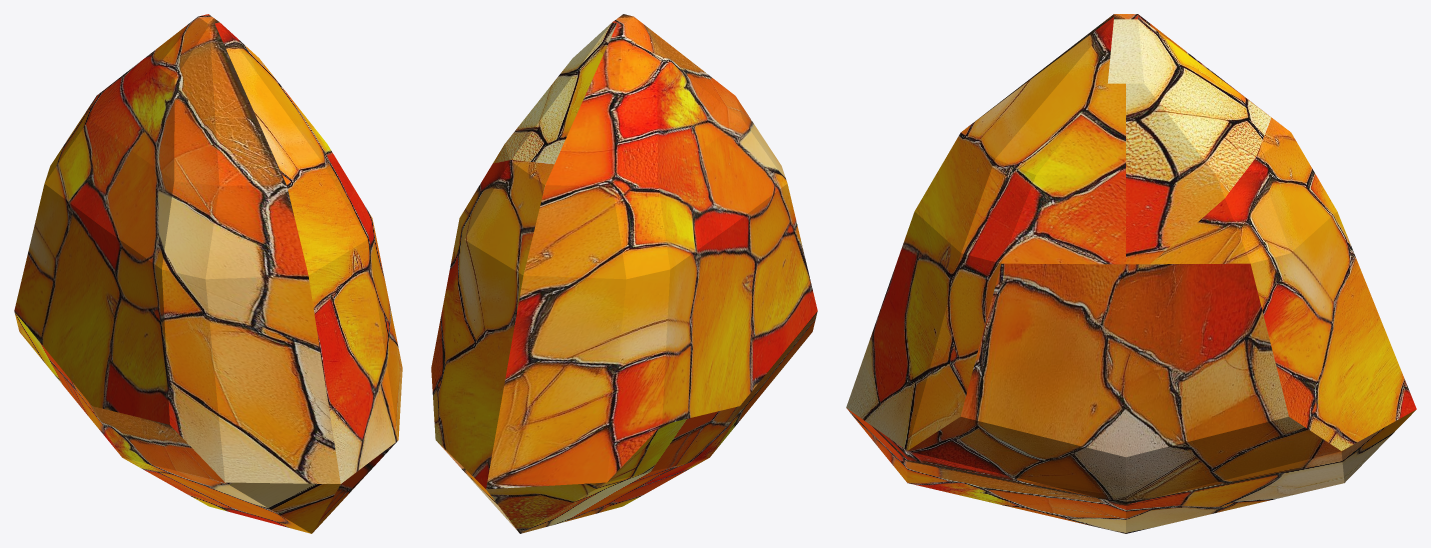
The model's file is gemstone5OrangeCompressed.glb.
3 views of the same model, side by side, from view 1: azimuth 30°, elevation 25°; view 2: azimuth 150°, elevation 25°; view 3: azimuth 270°, elevation 25° (orthographic). The views are drawn at different scales.
Parts seen in each view (by area): view 1: gemstone4; view 2: gemstone4; view 3: gemstone4.
Part boxes in pixels (x1=…): gemstone4: x1=14, y1=14, x2=402, y2=533; gemstone4: x1=431, y1=14, x2=817, y2=533; gemstone4: x1=846, y1=14, x2=1416, y2=533.
Bounding box in the file's own units: 0.5 × 1 × 1.
Materials: 1 (1 with a texture image).
